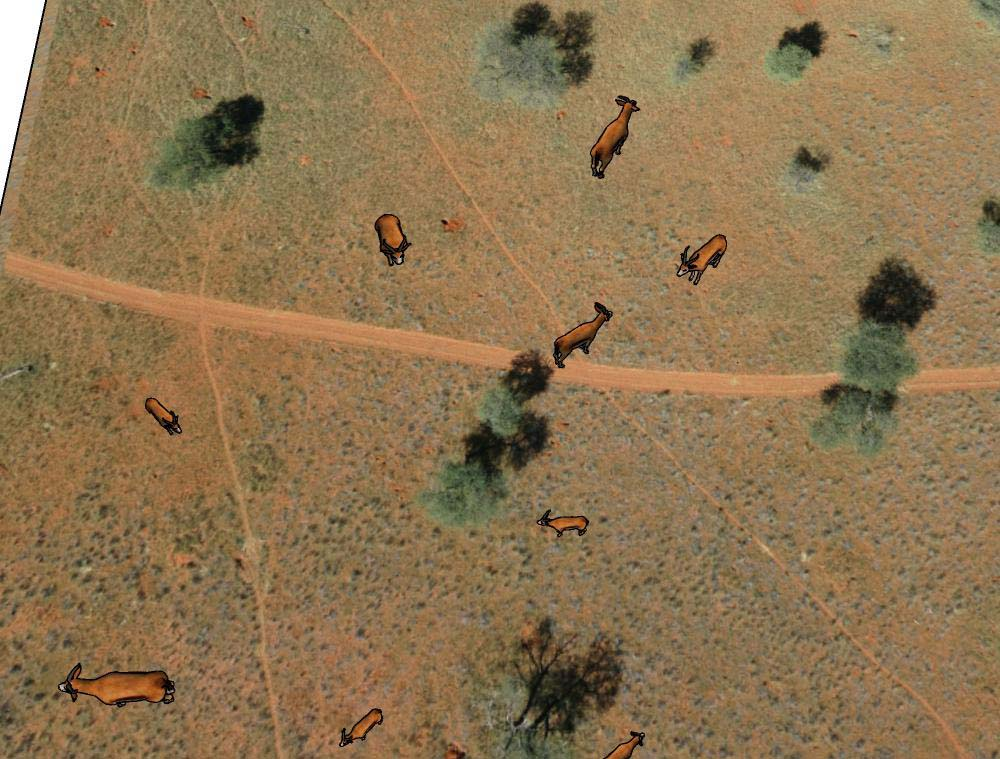springbok: (52, 656, 181, 710), (587, 92, 644, 183), (550, 299, 616, 371), (673, 231, 734, 288), (530, 499, 594, 542), (333, 704, 391, 749), (139, 387, 189, 439), (368, 212, 412, 271), (596, 726, 651, 759)
